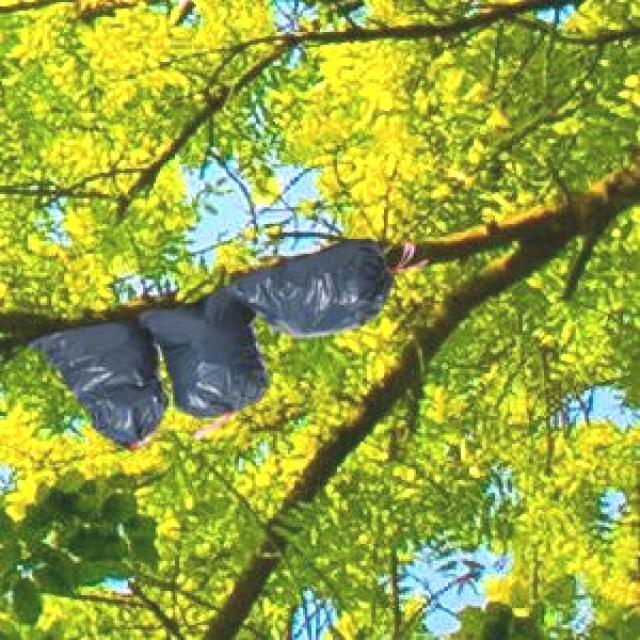Trashbag: (19, 315, 156, 450), (231, 236, 401, 338), (145, 295, 262, 419)
